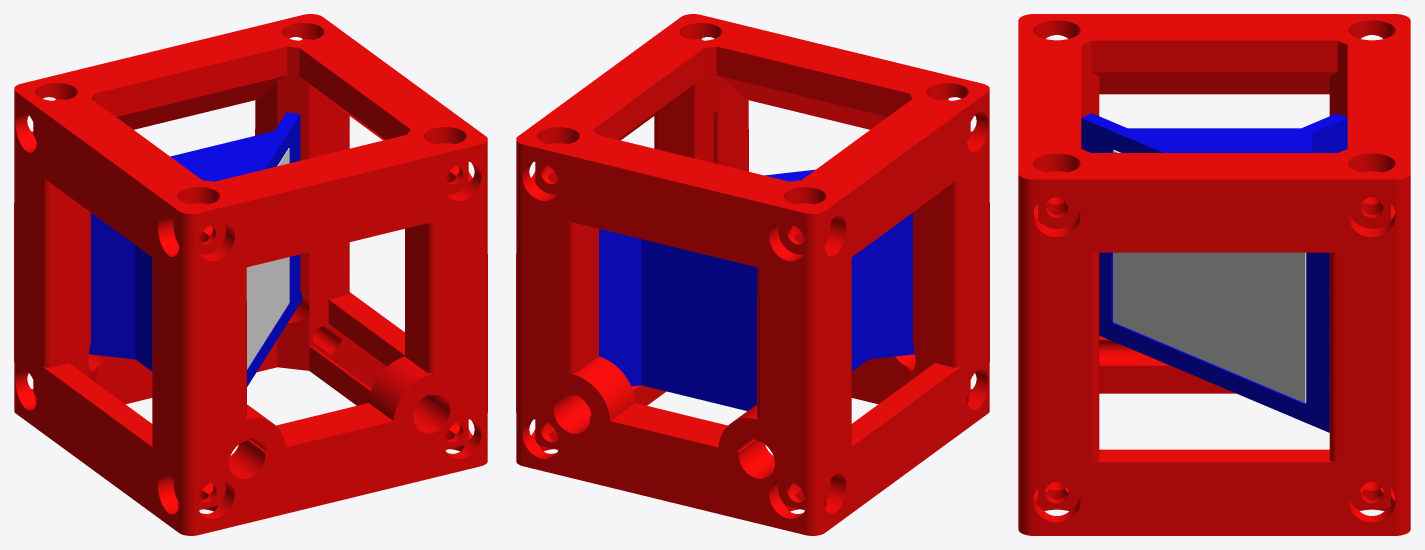
File: Cube 1x1 (Mirror).fbx
3 renders of one model, left to right at view 1: azimuth 30°, elevation 25°; view 2: azimuth 150°, elevation 25°; view 3: azimuth 270°, elevation 25°, orthographic. The views are drawn at different scales.
Visible parts, largest first — view 1: Base Cube 1x1 (Mirror); view 2: Base Cube 1x1 (Mirror); view 3: Base Cube 1x1 (Mirror).
Boxes of the visible parts, x1,y1,x2,y2 form: Base Cube 1x1 (Mirror): (14, 14, 487, 535); Base Cube 1x1 (Mirror): (516, 14, 989, 535); Base Cube 1x1 (Mirror): (1018, 14, 1410, 535).
Bounding box in the file's own units: 4.98 × 4.99 × 4.98.
